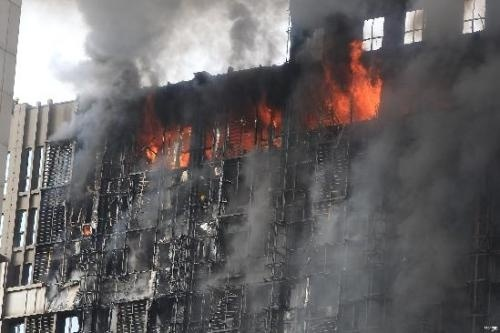fire: (141, 95, 285, 169), (303, 43, 387, 128), (79, 222, 94, 238)
